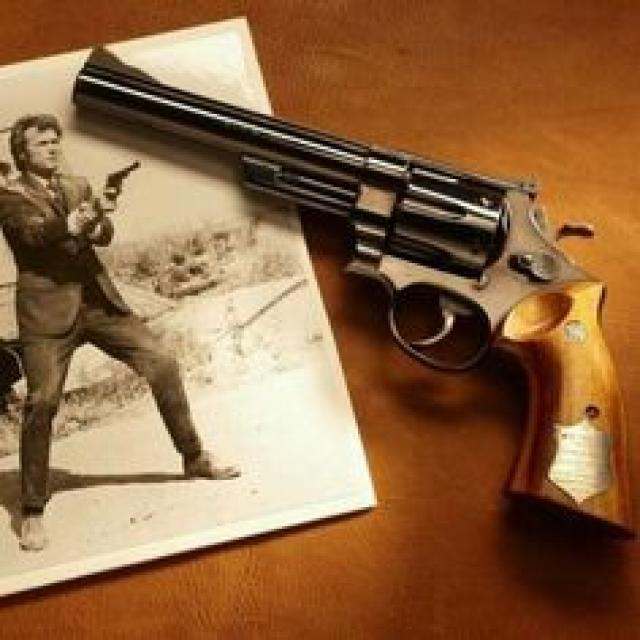revolver: (47, 13, 640, 557)
